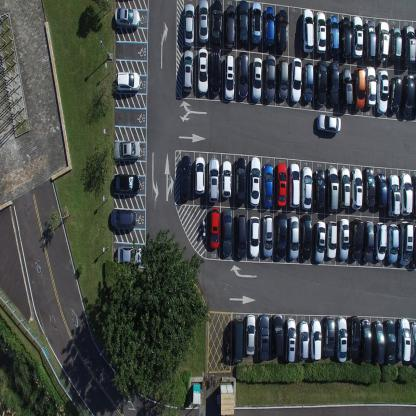car: (398, 220, 414, 265), (349, 217, 365, 261), (314, 60, 328, 108), (113, 172, 141, 195), (112, 138, 140, 160), (398, 318, 412, 362), (249, 156, 261, 207), (376, 21, 390, 64), (115, 6, 140, 30), (258, 313, 270, 362), (313, 219, 326, 264), (372, 319, 385, 364), (234, 156, 246, 204), (237, 51, 249, 99), (224, 2, 236, 50), (275, 211, 287, 259), (300, 214, 312, 262), (115, 70, 140, 93), (387, 174, 400, 218), (301, 8, 314, 52), (210, 44, 221, 96), (179, 154, 191, 201), (223, 54, 235, 101), (235, 213, 247, 260), (339, 67, 353, 107), (326, 166, 338, 212), (182, 48, 194, 94), (360, 318, 372, 364), (335, 316, 347, 362), (388, 76, 402, 115), (110, 208, 136, 229), (262, 163, 274, 208), (288, 163, 300, 208), (403, 23, 415, 68), (376, 70, 388, 115), (340, 15, 352, 60), (327, 60, 339, 105), (290, 57, 302, 102), (211, 0, 223, 45), (198, 0, 210, 45), (284, 317, 296, 362), (231, 318, 243, 363), (221, 208, 232, 257), (301, 166, 313, 210), (351, 167, 363, 211), (400, 172, 412, 216), (317, 112, 341, 134), (402, 74, 414, 118), (351, 15, 363, 59), (353, 66, 365, 110), (277, 57, 289, 101), (264, 54, 275, 102), (250, 1, 262, 45), (183, 2, 195, 46), (288, 216, 300, 260), (272, 313, 284, 357), (116, 245, 142, 265), (314, 11, 326, 54), (262, 214, 274, 257), (348, 315, 360, 358), (323, 315, 335, 358), (208, 158, 219, 204), (364, 20, 376, 62), (276, 8, 288, 50), (302, 61, 314, 103), (362, 220, 374, 262), (248, 216, 260, 258), (337, 218, 349, 260), (276, 162, 287, 207), (251, 56, 262, 101), (384, 319, 395, 364), (363, 166, 375, 207), (327, 14, 339, 55), (310, 319, 322, 360), (209, 206, 220, 250), (339, 166, 350, 210), (375, 221, 387, 261), (198, 47, 208, 94), (387, 223, 398, 265), (245, 314, 256, 356), (238, 0, 248, 46), (314, 169, 325, 210), (221, 159, 232, 199), (194, 155, 205, 195), (264, 5, 274, 49), (326, 220, 337, 260), (375, 172, 387, 208), (298, 320, 309, 359), (390, 26, 402, 61), (365, 65, 375, 107), (410, 320, 416, 365), (410, 225, 416, 267), (412, 175, 416, 217), (413, 74, 416, 114)
